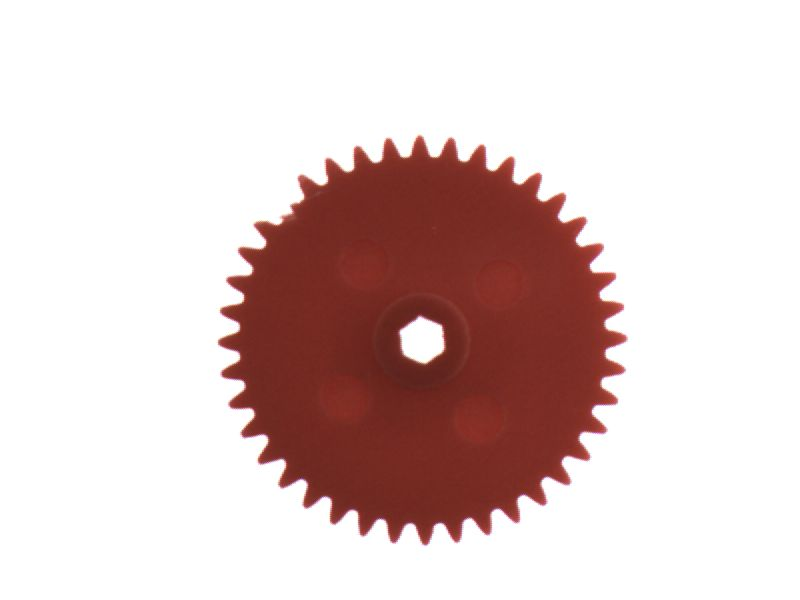defect_lack: (260, 178, 314, 238)
